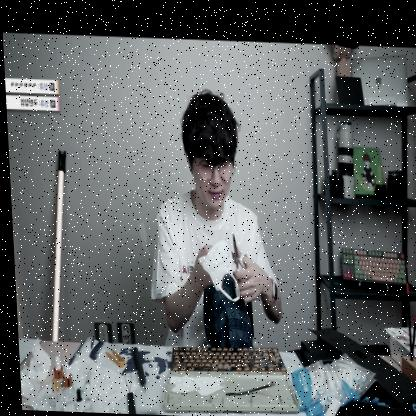streamer: (135, 83, 280, 347)
